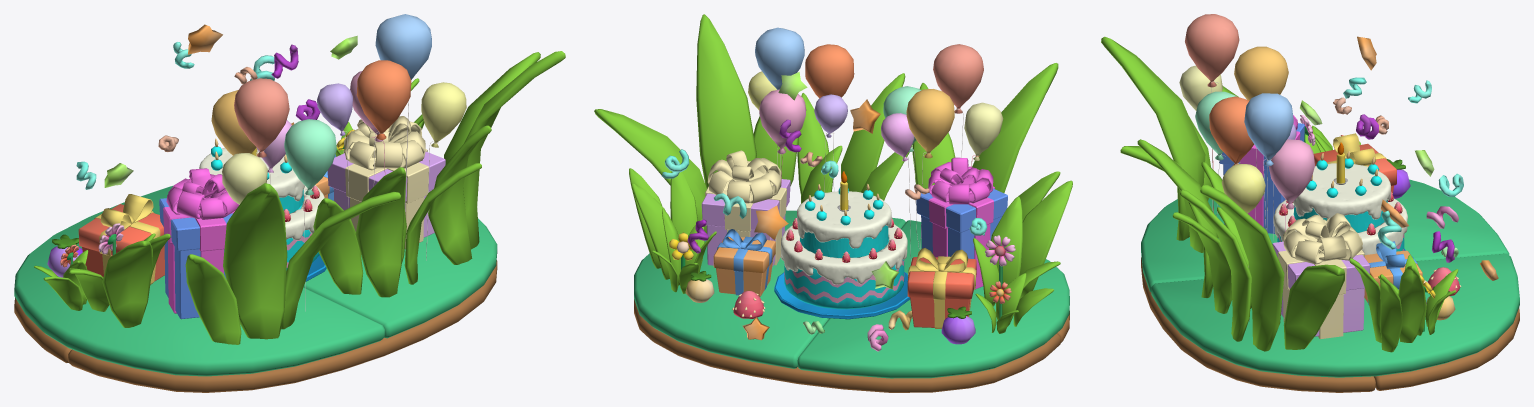
The model's file is Level_P_47.fbx.
The picture shows the model from 3 angles, left to right: view 1: azimuth 30°, elevation 25°; view 2: azimuth 150°, elevation 25°; view 3: azimuth 270°, elevation 25°; orthographic projection. The views are drawn at different scales.
Visible parts, largest first — view 1: base, base.001, polySurface384.002, base1, polySurface578, polySurface578.001, polySurface384.001, polySurface383.003, polySurface384, polySurface383.002, polySurface201, polySurface367 (+26 smaller); view 2: base, base.001, base1.001, polySurface384.003, polySurface578, polySurface578.001, polySurface204, polySurface203, polySurface384.002, polySurface202, polySurface387, polySurface371.003 (+43 smaller); view 3: base.001, base, polySurface578, polySurface384.002, polySurface384.003, polySurface204, base1, polySurface371.003, polySurface367, polySurface383.003, polySurface198, polySurface368 (+30 smaller).
Part boxes in pixels (x1,y1,x2,y2): base: (14,202,384,376); base.001: (141,185,497,338); polySurface384.002: (223,183,287,339); base1: (68,260,497,392); polySurface578: (327,116,445,203); polySurface578.001: (159,168,239,251); polySurface384.001: (355,167,405,297); polySurface383.003: (428,125,491,264); polySurface384: (102,240,152,327); polySurface383.002: (185,254,241,344); polySurface201: (356,60,411,186); polySurface367: (234,78,289,157); base: (797,220,1069,378); base.001: (634,210,905,368); base1.001: (634,299,1060,392); polySurface384.003: (696,14,756,188); polySurface578: (701,150,790,231); polySurface578.001: (916,157,1007,232); polySurface204: (797,184,891,248); polySurface203: (780,217,907,286); polySurface384.002: (972,63,1058,192); polySurface202: (784,239,904,309); polySurface387: (907,248,976,299); polySurface371.003: (594,109,706,233); base.001: (1151,253,1519,377); base: (1141,179,1509,292); polySurface578: (1272,213,1370,294); polySurface384.002: (1101,36,1205,240); polySurface384.003: (1200,185,1284,351); polySurface204: (1293,151,1390,219); base1: (1141,257,1375,392); polySurface371.003: (1283,264,1344,349); polySurface367: (1185,14,1239,210); polySurface383.003: (1180,189,1251,341); polySurface198: (1244,93,1293,229); polySurface368: (1234,46,1288,233).
Size of the model in its own units: 12.96 by 6.67 by 9.94.
